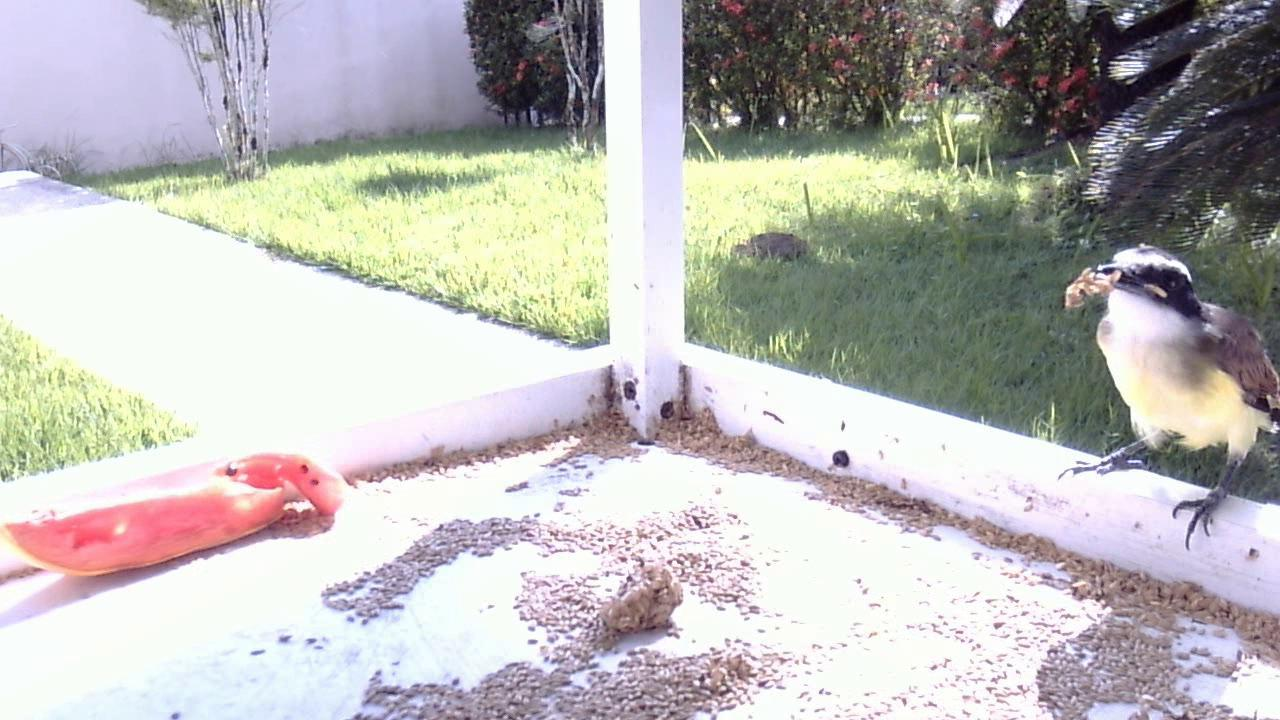bem_te_vi: (1041, 234, 1280, 572)
